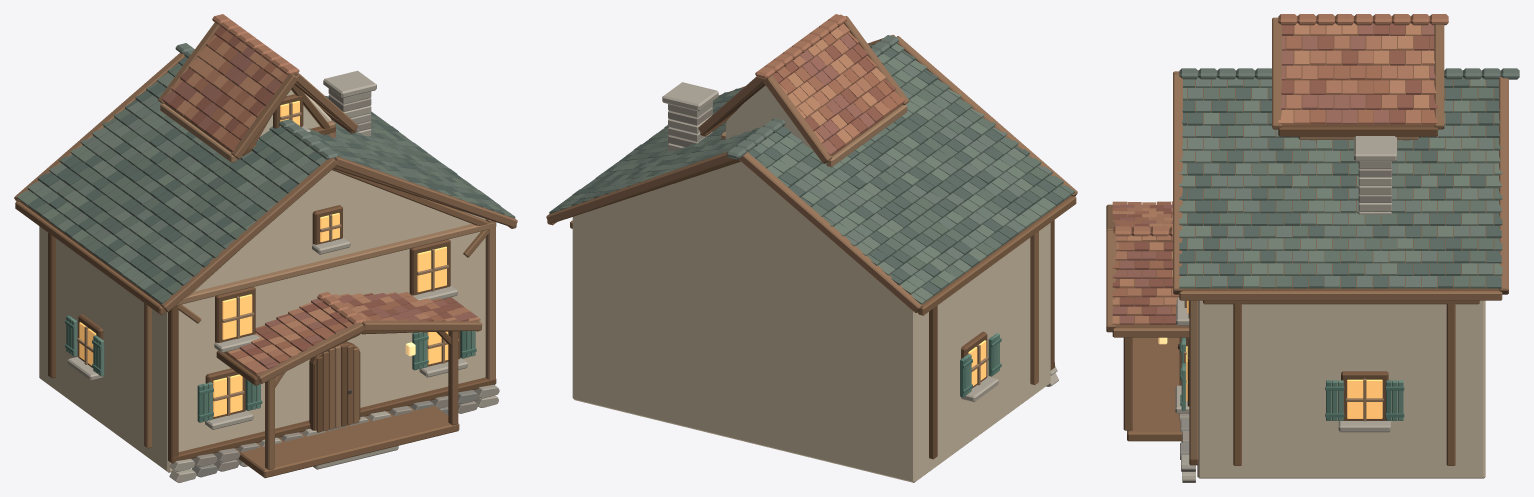
The model's file is hall.glb.
The picture shows the model from 3 angles, left to right: view 1: azimuth 30°, elevation 25°; view 2: azimuth 150°, elevation 25°; view 3: azimuth 270°, elevation 25°; orthographic projection. The views are drawn at different scales.
Visible parts, largest first — view 1: hall Warm limewash 01, hall Oiled oak 01, hall Slate green shingles 01, hall Oiled oak 02, hall Slate green shingles 02, hall Oak end grain 01, hall Slate green shingles 03, hall Slate green shingles 04, hall Oiled oak 04, hall Warm slate 03, hall Fired clay 03, hall Honey glass 01 (+12 smaller); view 2: hall Warm limewash 01, hall Slate green shingles 01, hall Slate green shingles 02, hall Slate green shingles 03, hall Slate green shingles 04, hall Oak end grain 01, hall Oiled oak 01, hall Fired clay 03, hall Fired clay 05, hall Warm slate 03, hall Fired clay 02, hall Warm limewash 03 (+8 smaller); view 3: hall Warm limewash 01, hall Slate green shingles 03, hall Slate green shingles 01, hall Slate green shingles 02, hall Slate green shingles 04, hall Oiled oak 01, hall Oiled oak 02, hall Fired clay 03, hall Oak end grain 01, hall Fired clay 01, hall Fired clay 04, hall Fired clay 05 (+10 smaller).
Part boxes in pixels (x1=…): hall Warm limewash 01: x1=39, y1=170, x2=485, y2=472; hall Oiled oak 01: x1=19, y1=82, x2=508, y2=463; hall Slate green shingles 01: x1=28, y1=57, x2=504, y2=296; hall Oiled oak 02: x1=15, y1=117, x2=488, y2=478; hall Slate green shingles 02: x1=35, y1=63, x2=506, y2=304; hall Oak end grain 01: x1=14, y1=22, x2=517, y2=383; hall Slate green shingles 03: x1=42, y1=43, x2=500, y2=285; hall Slate green shingles 04: x1=16, y1=72, x2=515, y2=290; hall Oiled oak 04: x1=160, y1=103, x2=496, y2=427; hall Warm slate 03: x1=67, y1=70, x2=498, y2=482; hall Fired clay 03: x1=170, y1=14, x2=470, y2=374; hall Honey glass 01: x1=79, y1=101, x2=448, y2=416; hall Warm limewash 01: x1=572, y1=161, x2=1050, y2=482; hall Slate green shingles 01: x1=549, y1=48, x2=1063, y2=295; hall Slate green shingles 02: x1=557, y1=63, x2=1074, y2=290; hall Slate green shingles 03: x1=564, y1=35, x2=1052, y2=283; hall Slate green shingles 04: x1=560, y1=43, x2=1055, y2=304; hall Oak end grain 01: x1=546, y1=14, x2=1077, y2=312; hall Oiled oak 01: x1=554, y1=82, x2=1071, y2=459; hall Fired clay 03: x1=755, y1=14, x2=890, y2=143; hall Fired clay 05: x1=787, y1=28, x2=886, y2=145; hall Warm slate 03: x1=662, y1=82, x2=1058, y2=401; hall Fired clay 02: x1=702, y1=32, x2=905, y2=123; hall Warm limewash 03: x1=725, y1=85, x2=815, y2=153; hall Warm limewash 01: x1=1197, y1=300, x2=1485, y2=478; hall Slate green shingles 03: x1=1179, y1=68, x2=1519, y2=288; hall Slate green shingles 01: x1=1179, y1=77, x2=1502, y2=288; hall Slate green shingles 02: x1=1182, y1=77, x2=1502, y2=288; hall Slate green shingles 04: x1=1179, y1=77, x2=1502, y2=288; hall Oiled oak 01: x1=1116, y1=24, x2=1498, y2=465; hall Oiled oak 02: x1=1123, y1=300, x2=1479, y2=465; hall Fired clay 03: x1=1112, y1=14, x2=1448, y2=324; hall Oak end grain 01: x1=1106, y1=17, x2=1508, y2=332; hall Fired clay 01: x1=1112, y1=23, x2=1437, y2=324; hall Fired clay 04: x1=1112, y1=23, x2=1435, y2=324; hall Fired clay 05: x1=1112, y1=23, x2=1434, y2=324.
Bounding box in the file's own units: 8.25 × 7.58 × 7.44.
